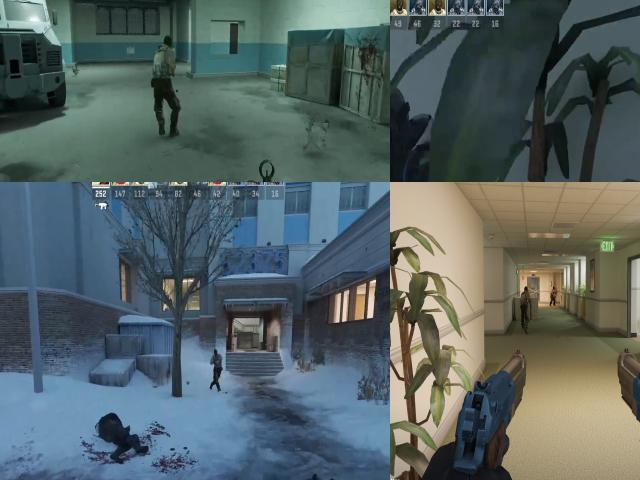CT: (390, 70, 479, 182)
CT-Head: (390, 86, 419, 182)
Dead: (92, 408, 148, 459)
T: (146, 37, 182, 91), (209, 348, 224, 374), (520, 286, 529, 329), (550, 286, 556, 305)
T-Head: (159, 32, 177, 55), (212, 350, 222, 361), (524, 286, 528, 294), (552, 286, 555, 290)
